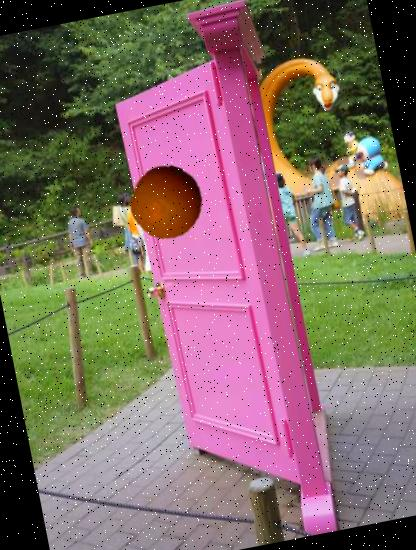Orange: (124, 159, 210, 245)
